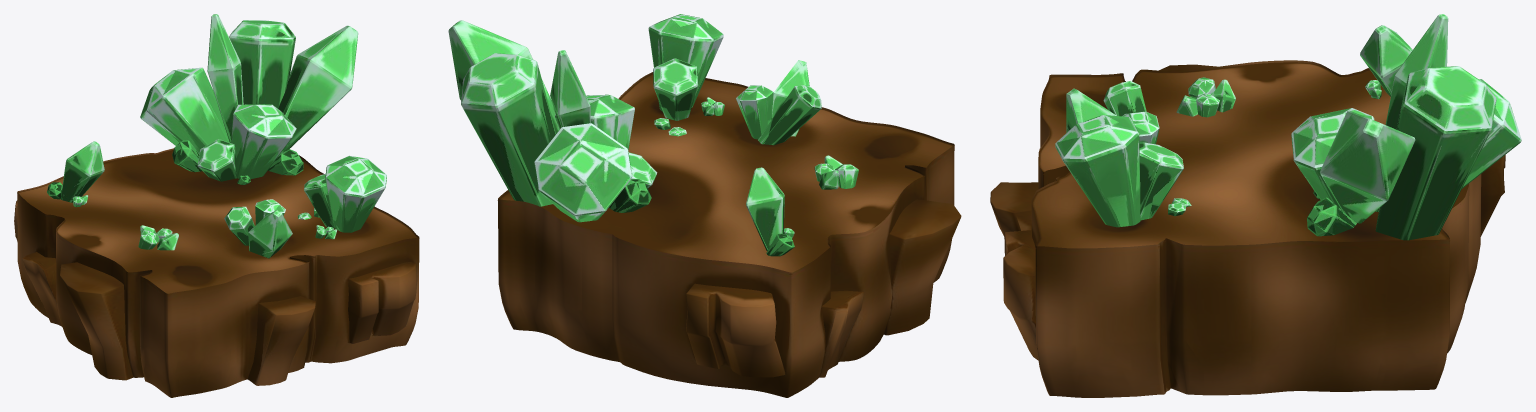
File: land-X.glb
3 views of the same model, side by side, from view 1: azimuth 30°, elevation 25°; view 2: azimuth 150°, elevation 25°; view 3: azimuth 270°, elevation 25° (orthographic). The views are drawn at different scales.
Parts seen in each view (by area): view 1: Land; view 2: Land; view 3: Land.
Part boxes in pixels (x1,y1,x2,y2): Land: (14, 14, 419, 397); Land: (448, 14, 961, 397); Land: (990, 14, 1521, 397).
Size of the model in its own units: 10.39 by 6.83 by 9.54.
Materials: 1 (1 with a texture image).
